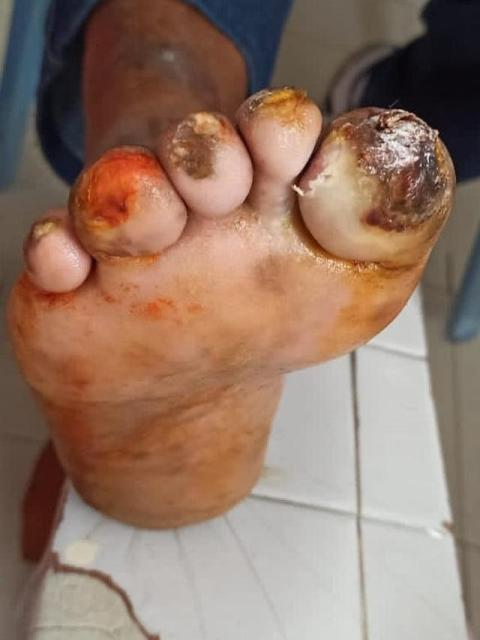wound: (294, 109, 451, 235), (79, 150, 163, 230), (168, 110, 234, 180), (247, 89, 311, 127)
